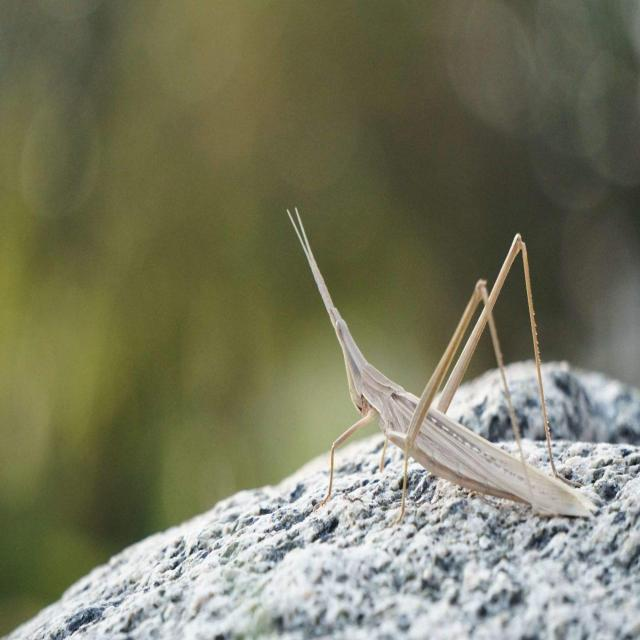ZhaMeng: (278, 198, 606, 548)
